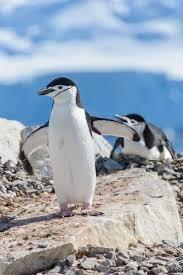chinstrap: (16, 73, 129, 226)
